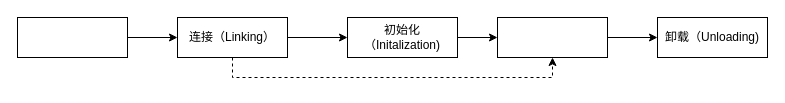
Some shapes in this 785 by 103 pixel diagram are drawn without their labels. The shapes that lost their labels are listed below. From the top down, each one's centre as x and y in pixels, then its label:
At pixel 72 37: "加载（loading）".
At pixel 552 37: "使用（Using)".
